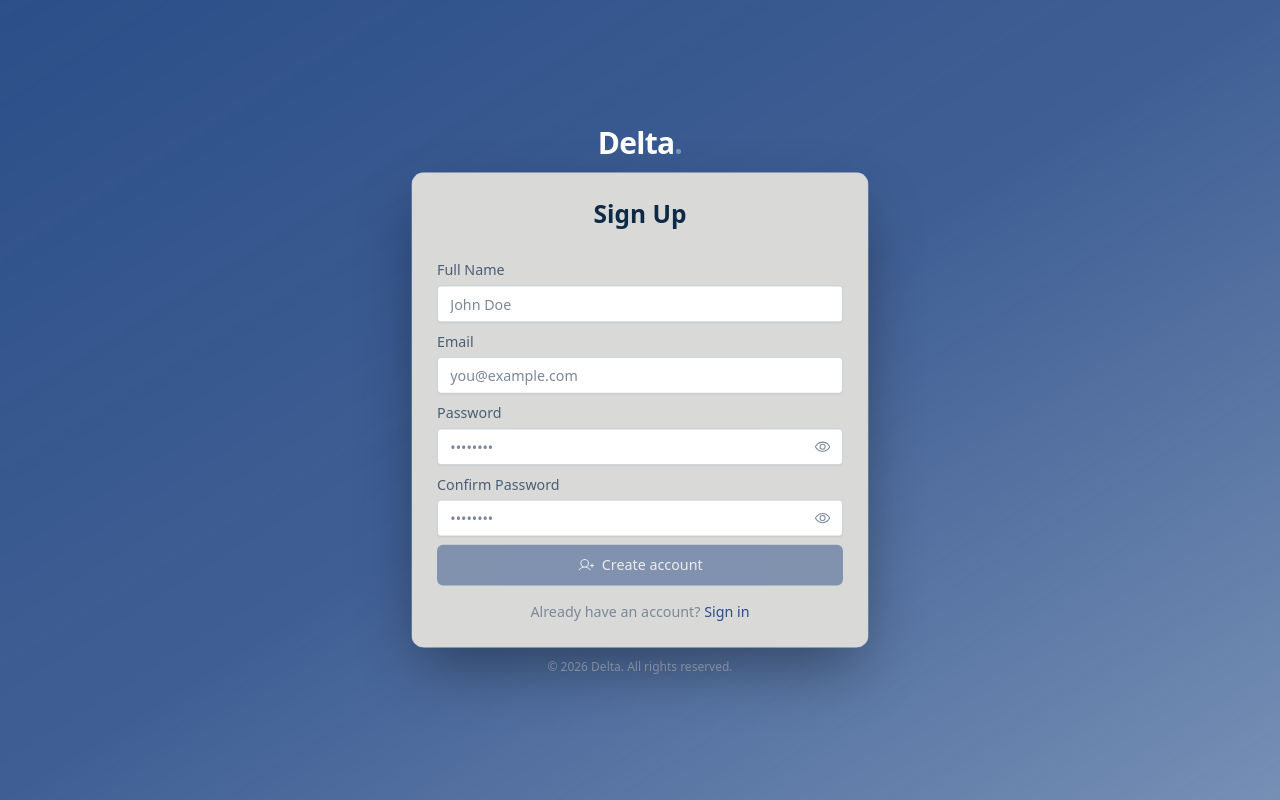
Signup Page › shows password match indicator when confirm password is entered
This screenshot has width=1280, height=800.
Type "password123" into the password field labelled "Password". click: (640, 447)
box: [437,428,843,465]
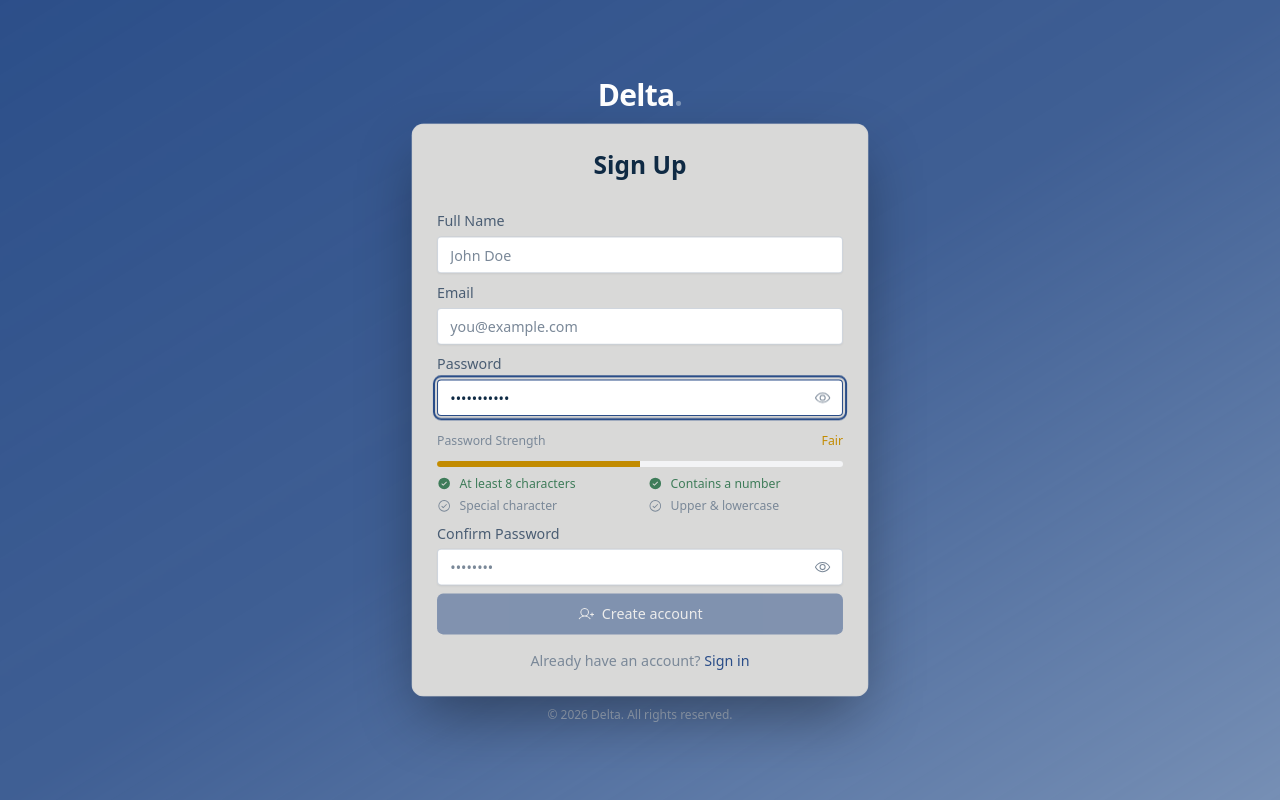
Type "password123" into the password field labelled "Confirm Password". click: (640, 567)
box: [437,549,843,585]
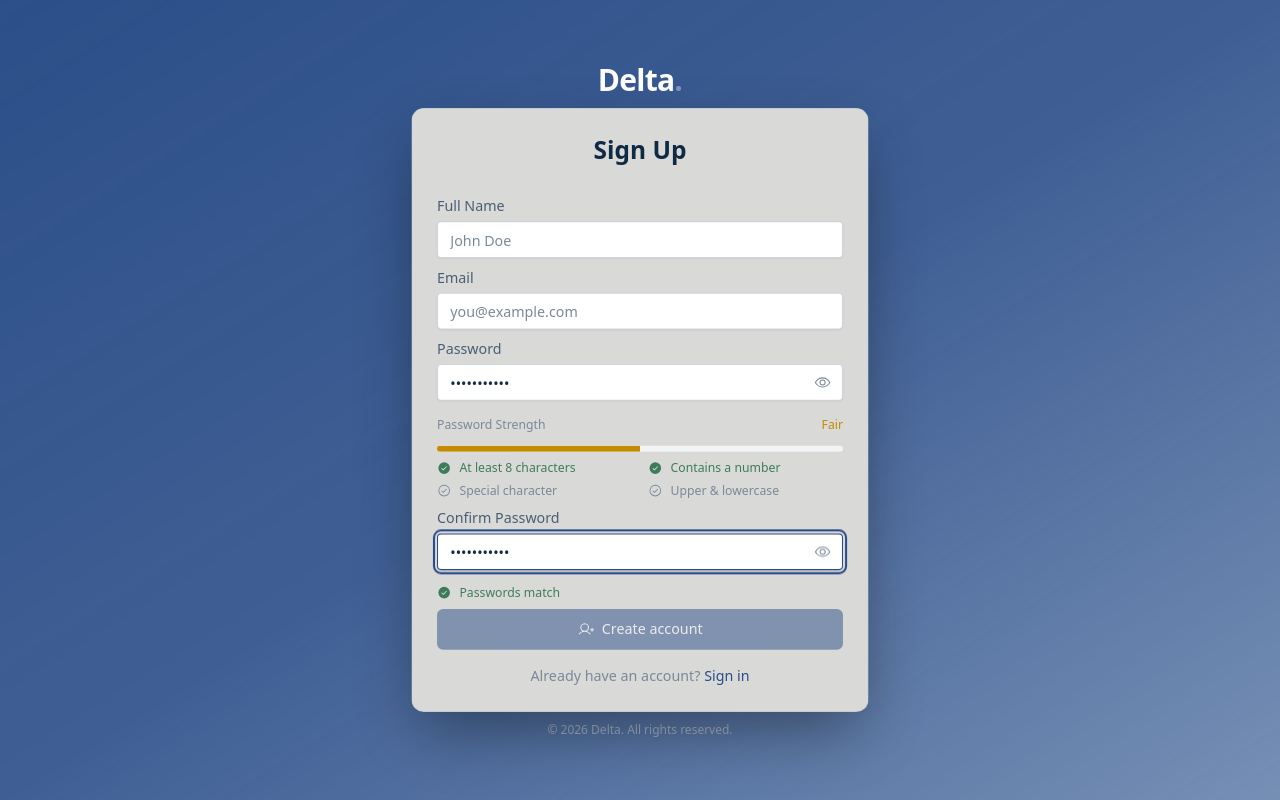
Result: the text "Passwords match" is shown at [460,584,560,601]
